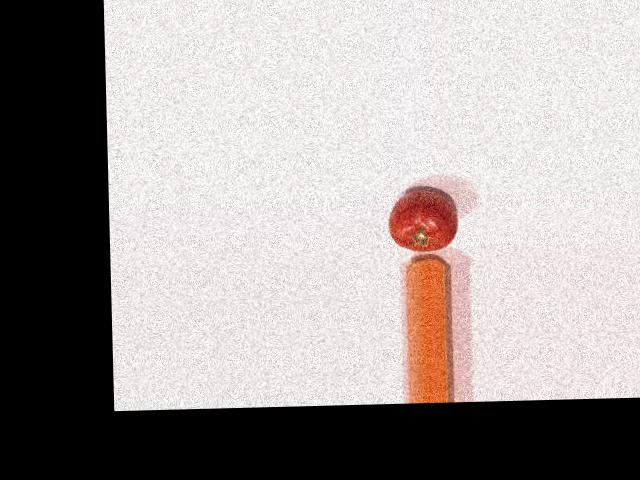tomato: (387, 190, 457, 251)
